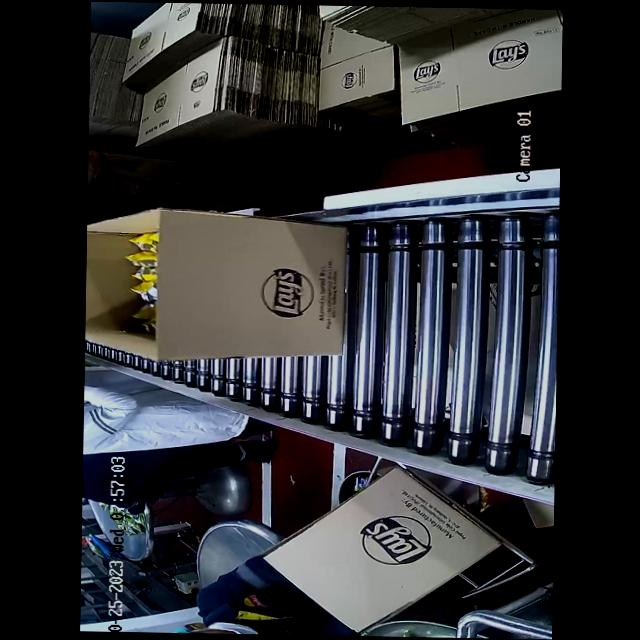salted: (102, 234, 166, 334)
